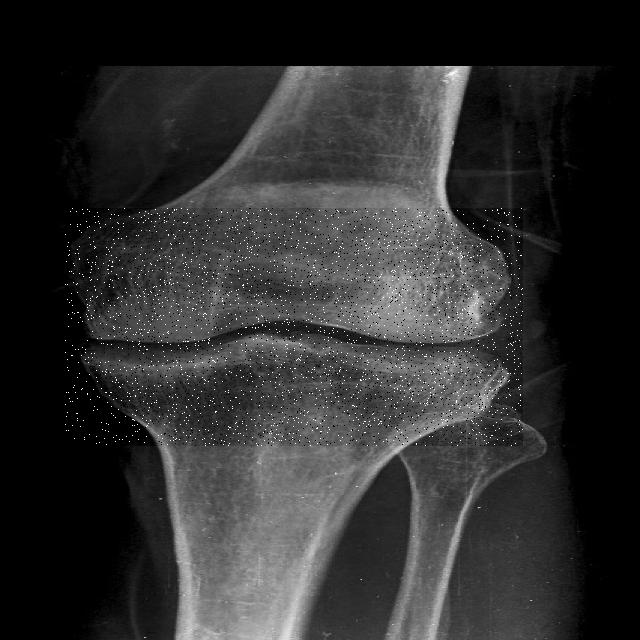osteo: (65, 208, 523, 446)
